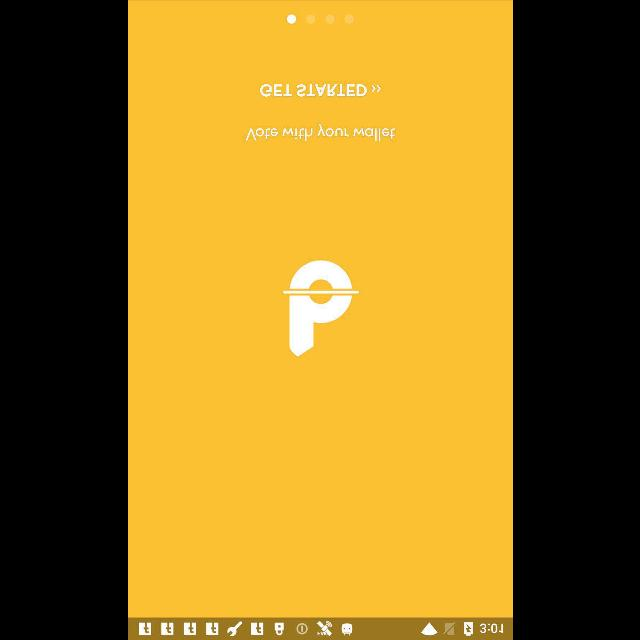image: (283, 260, 359, 358)
pageindicator: (286, 14, 354, 24)
text: (245, 122, 395, 142), (259, 84, 381, 96)
uppertaskbar: (128, 617, 512, 639)
